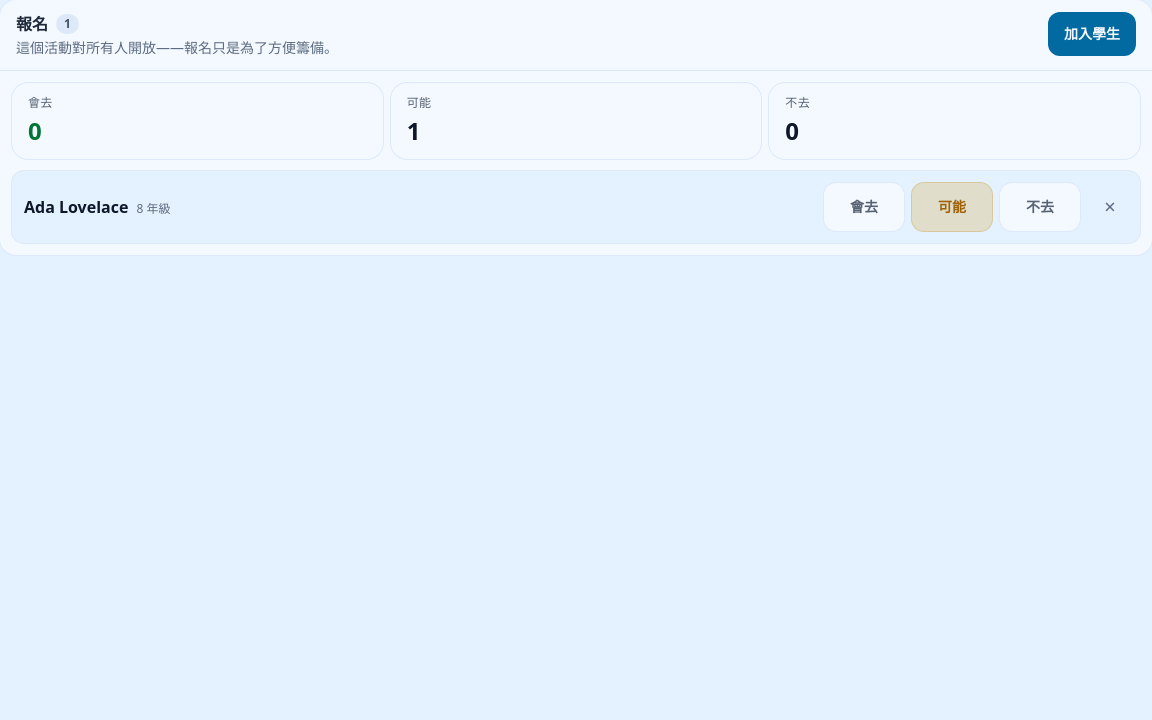
the add-students sheet, in another language › counts the students it is about to add in the reader’s language
Click the button "加入學生": {"x": 1092, "y": 34} [1048, 12, 1136, 56]
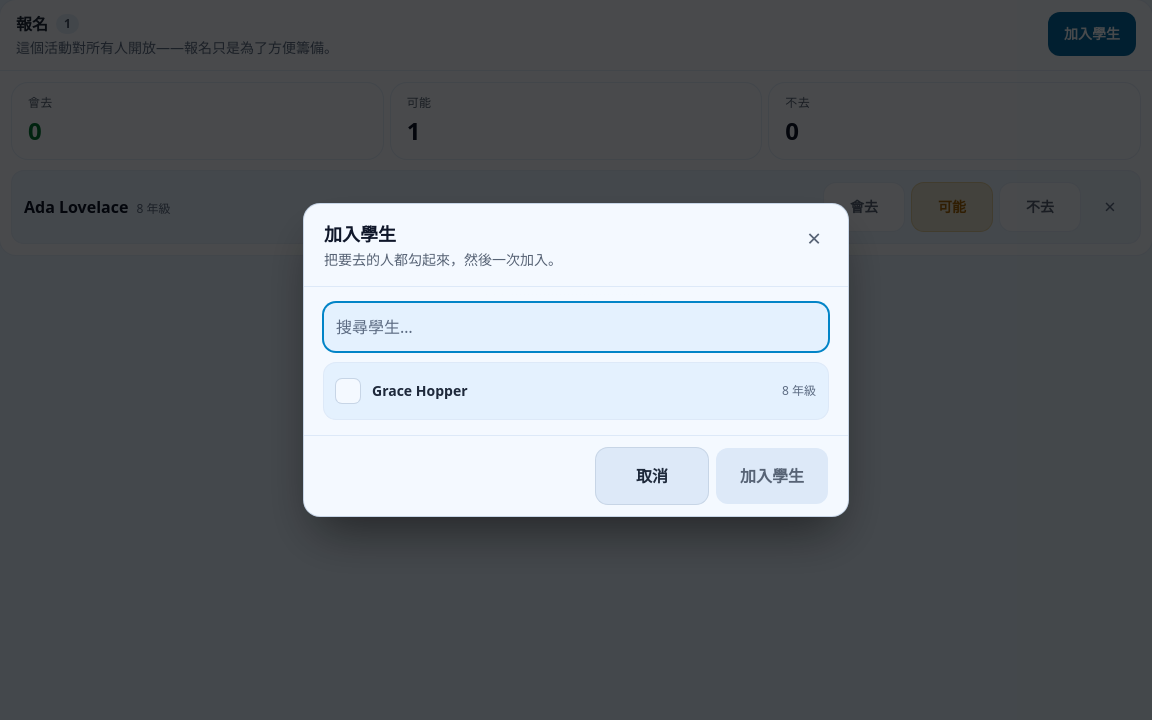
Click the checkbox labelled "✓ Grace Hopper 8 年級": {"x": 420, "y": 390} [324, 363, 828, 419]
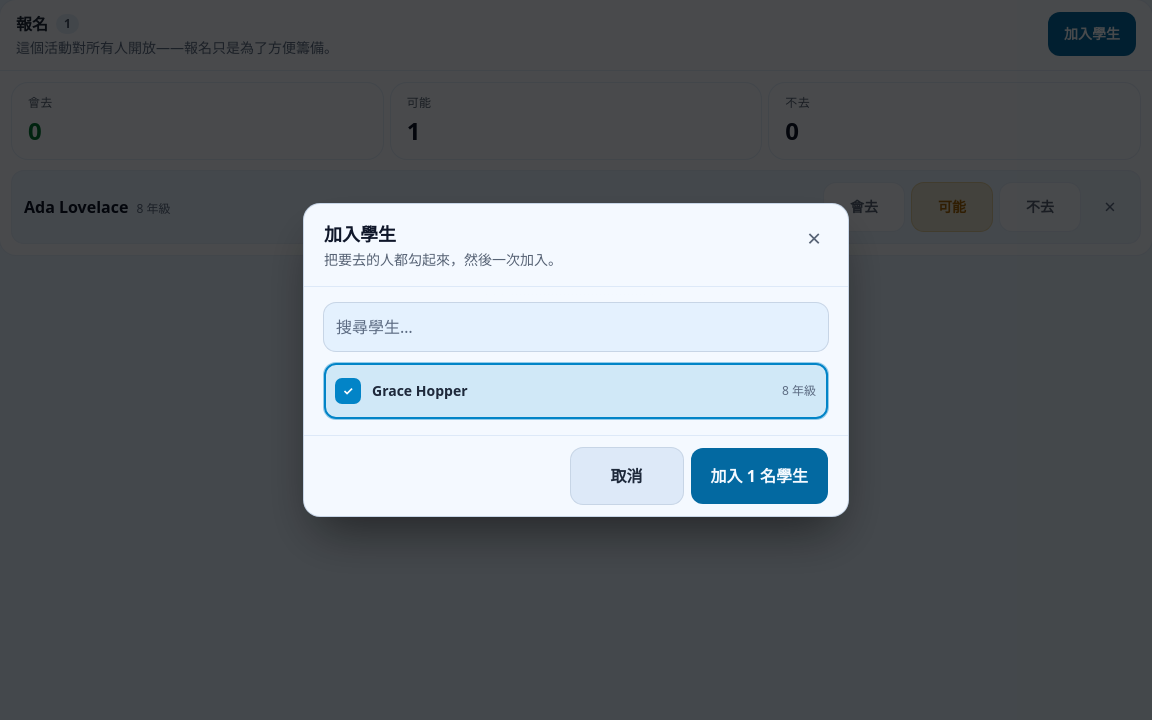
Expected: the button "加入 1 名學生" is shown, [690, 448, 828, 504]
